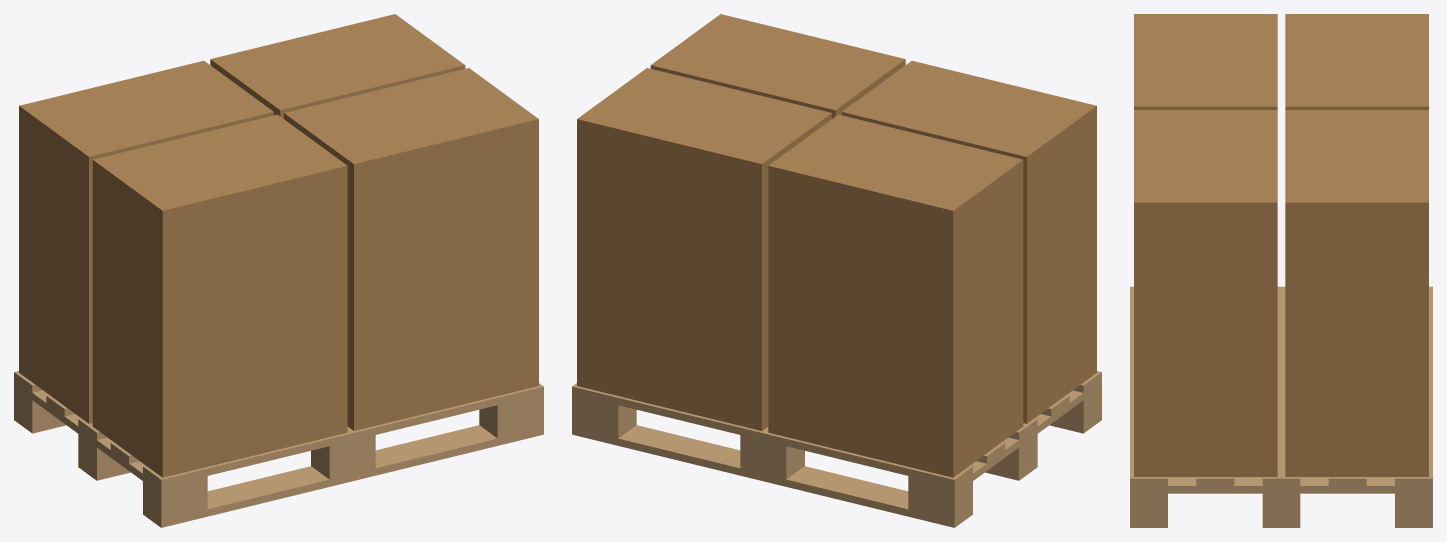
File: air-007.glb
3 renders of one model, left to right at view 1: azimuth 30°, elevation 25°; view 2: azimuth 150°, elevation 25°; view 3: azimuth 270°, elevation 25°, orthographic. The views are drawn at different scales.
Parts seen in each view (by area): view 1: cardboard, oak; view 2: cardboard, oak; view 3: cardboard, oak.
Boxes of the visible parts, x1,y1,x2,y2 form: cardboard: (19,14,538,477); oak: (14,371,543,527); cardboard: (577,14,1096,477); oak: (572,371,1101,527); cardboard: (1134,14,1428,476); oak: (1130,286,1432,527).
Bounding box in the file's own units: 1.2 × 0.944 × 0.8.
